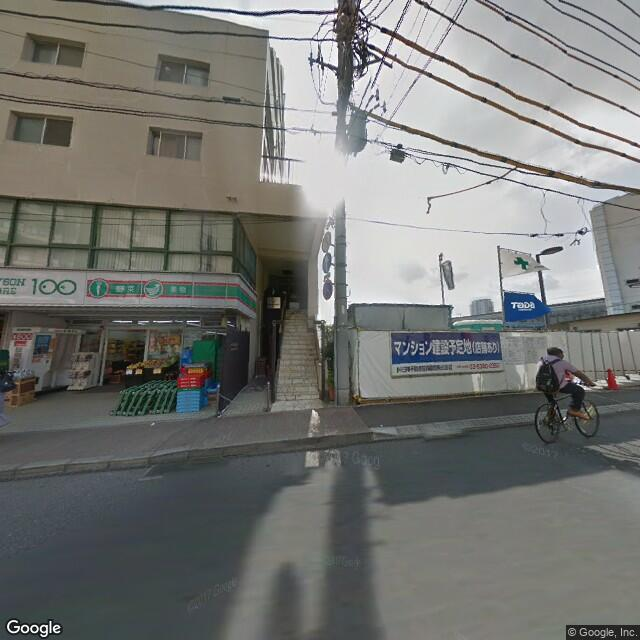lawson: (1, 265, 261, 322)
